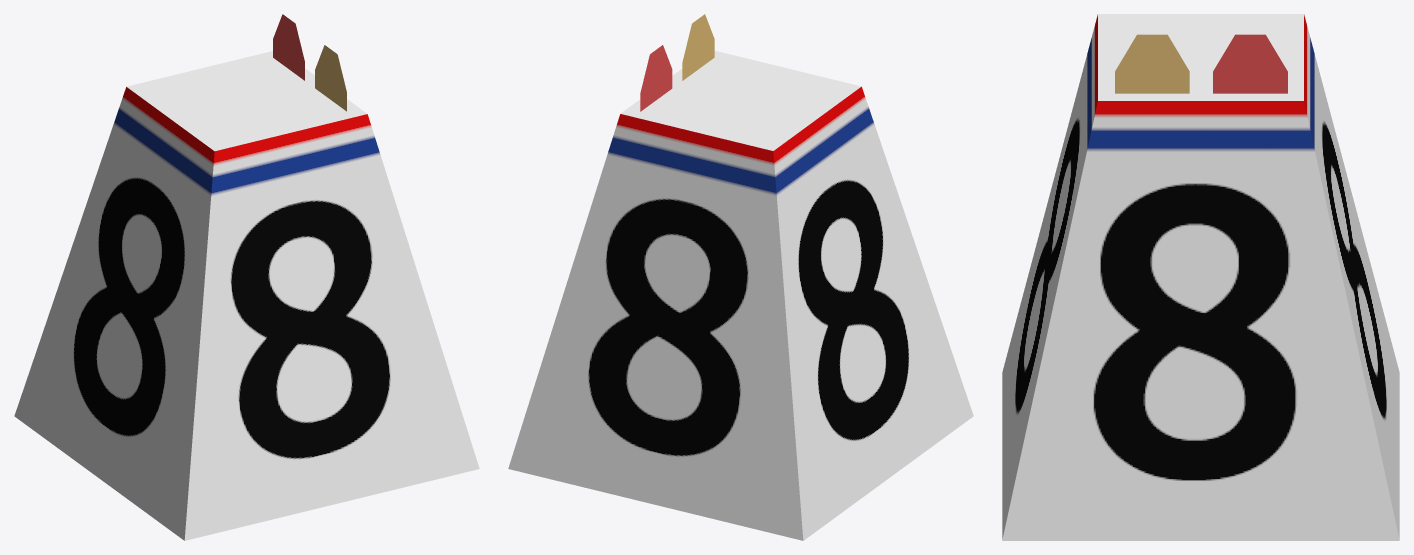
The model's file is Marker_Line8.FBX.
3 views of the same model, side by side, from view 1: azimuth 30°, elevation 25°; view 2: azimuth 150°, elevation 25°; view 3: azimuth 270°, elevation 25° (orthographic). The views are drawn at different scales.
Visible parts, largest first — view 1: Marker_Line8; view 2: Marker_Line8; view 3: Marker_Line8.
Part boxes in pixels (<box>): Marker_Line8: <box>14,14,479,540</box>; Marker_Line8: <box>508,14,973,540</box>; Marker_Line8: <box>1002,14,1399,540</box>.
Bounding box in the file's own units: 6.76 × 8.6 × 6.76.
